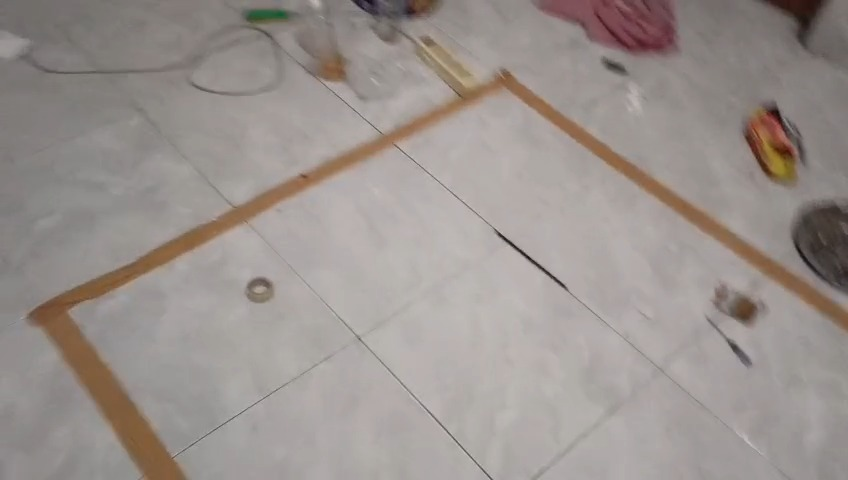floor marking: (28, 70, 847, 479)
